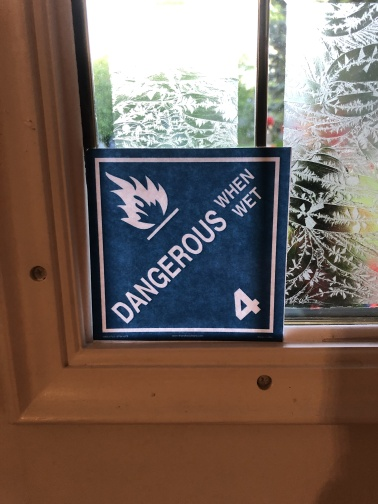DangerousWhenWet: (88, 147, 281, 335)
